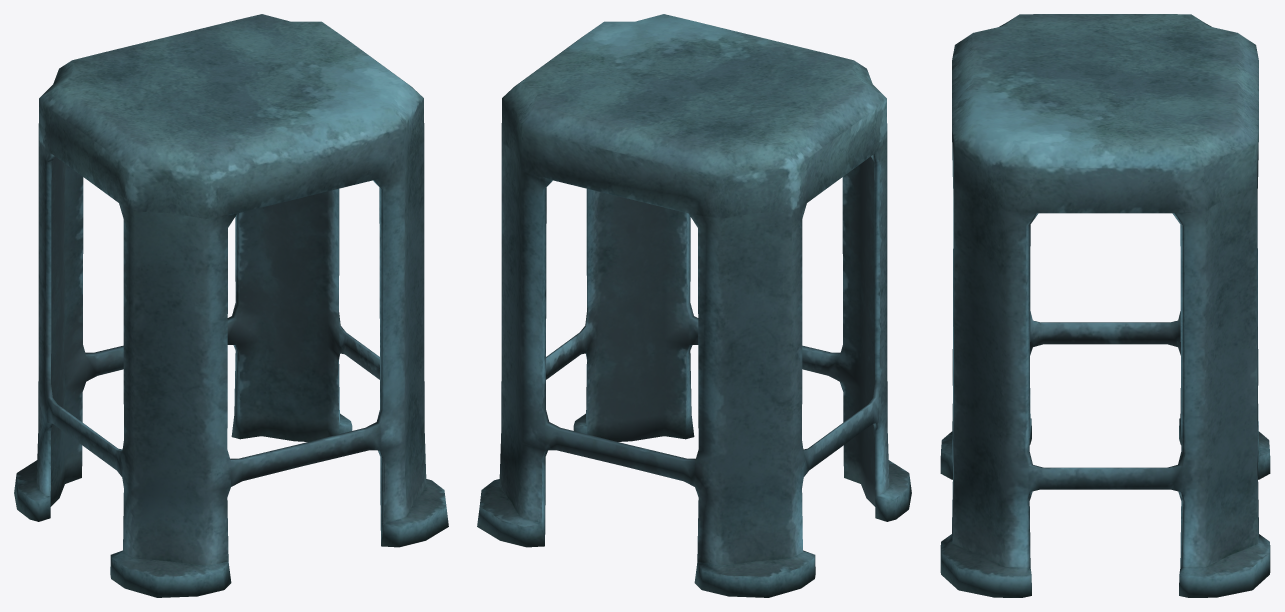
3 views of the same model, side by side, from view 1: azimuth 30°, elevation 25°; view 2: azimuth 150°, elevation 25°; view 3: azimuth 270°, elevation 25° (orthographic). The views are drawn at different scales.
Visible parts, largest first — view 1: Generator And Chair.005; view 2: Generator And Chair.005; view 3: Generator And Chair.005.
Part boxes in pixels (x1,y1,x2,y2): Generator And Chair.005: (14,14,448,597); Generator And Chair.005: (477,14,911,597); Generator And Chair.005: (940,14,1270,597).
Size of the model in its own units: 0.4098 by 0.522 by 0.3542.
Materials: 1 (1 with a texture image).
